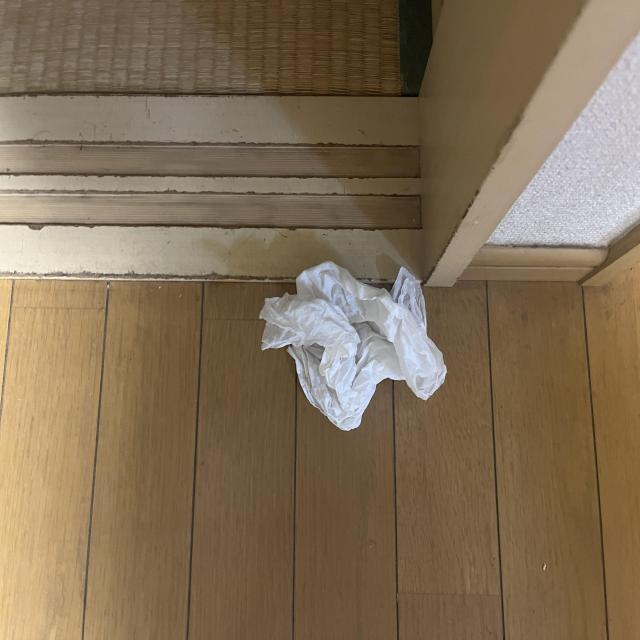Paper: (248, 250, 454, 424)
